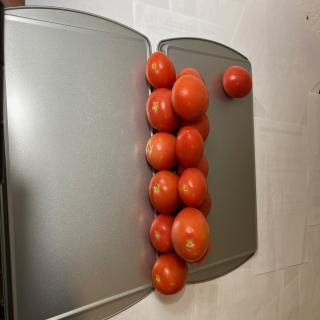Chilli: (145, 51, 211, 296)
Tomato: (171, 207, 210, 262), (171, 75, 209, 121), (152, 252, 188, 296), (146, 88, 180, 132), (149, 170, 181, 214), (175, 126, 204, 168), (178, 168, 208, 208), (145, 51, 176, 89), (146, 132, 177, 170), (222, 65, 252, 98), (150, 214, 175, 252), (179, 114, 210, 142), (177, 67, 206, 86)
